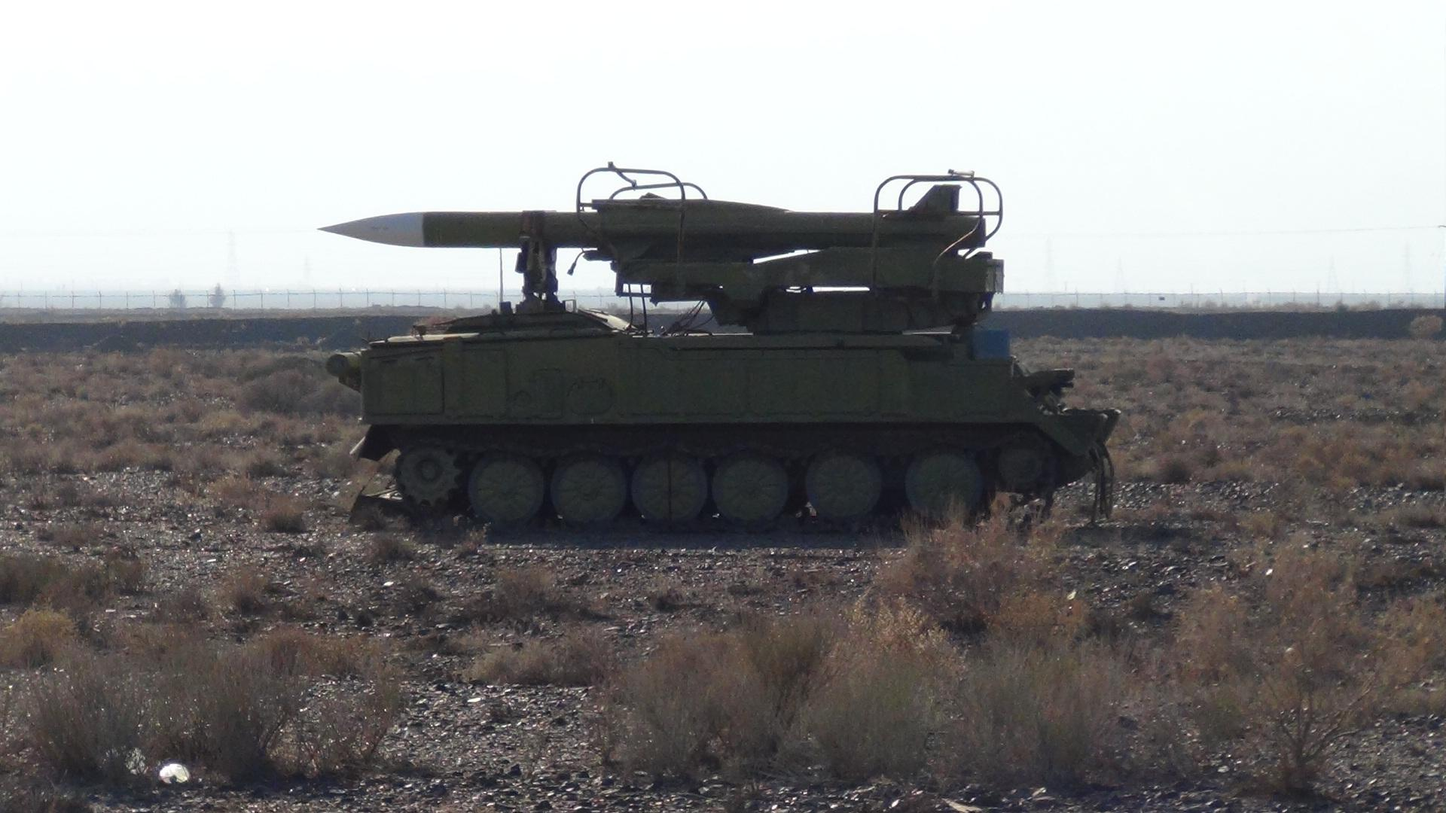armored_car: (316, 164, 1127, 543)
